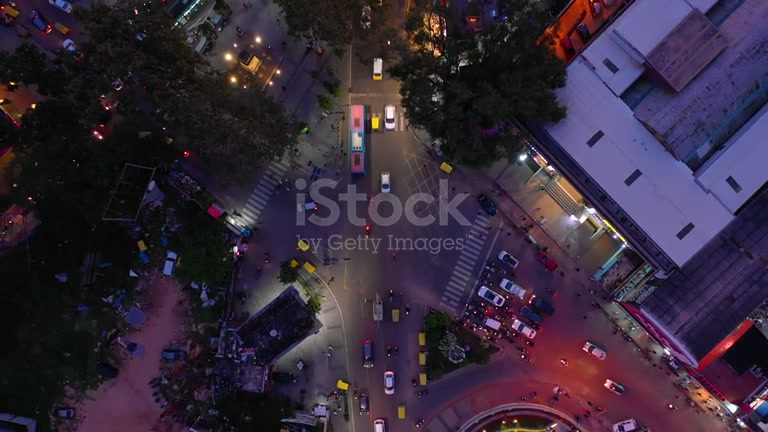car: (738, 398, 768, 431), (582, 340, 607, 360)
